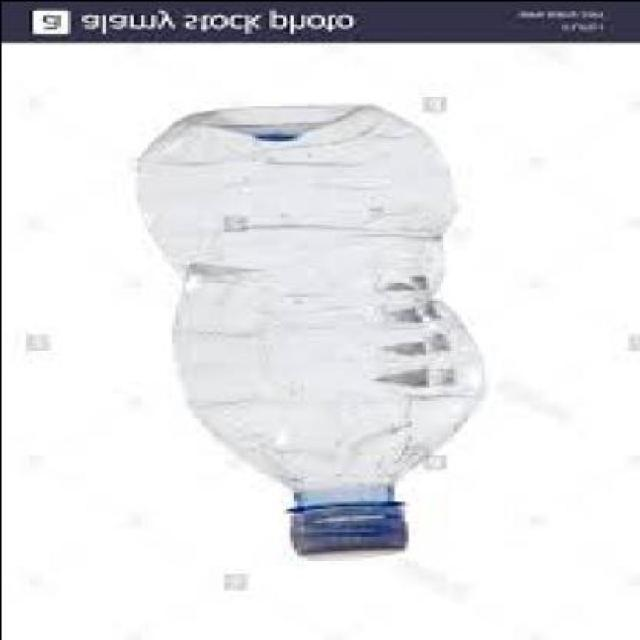PLASTIC: (135, 104, 477, 558), (279, 500, 403, 558)
